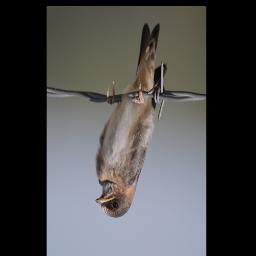Swallow: (94, 22, 168, 220)
